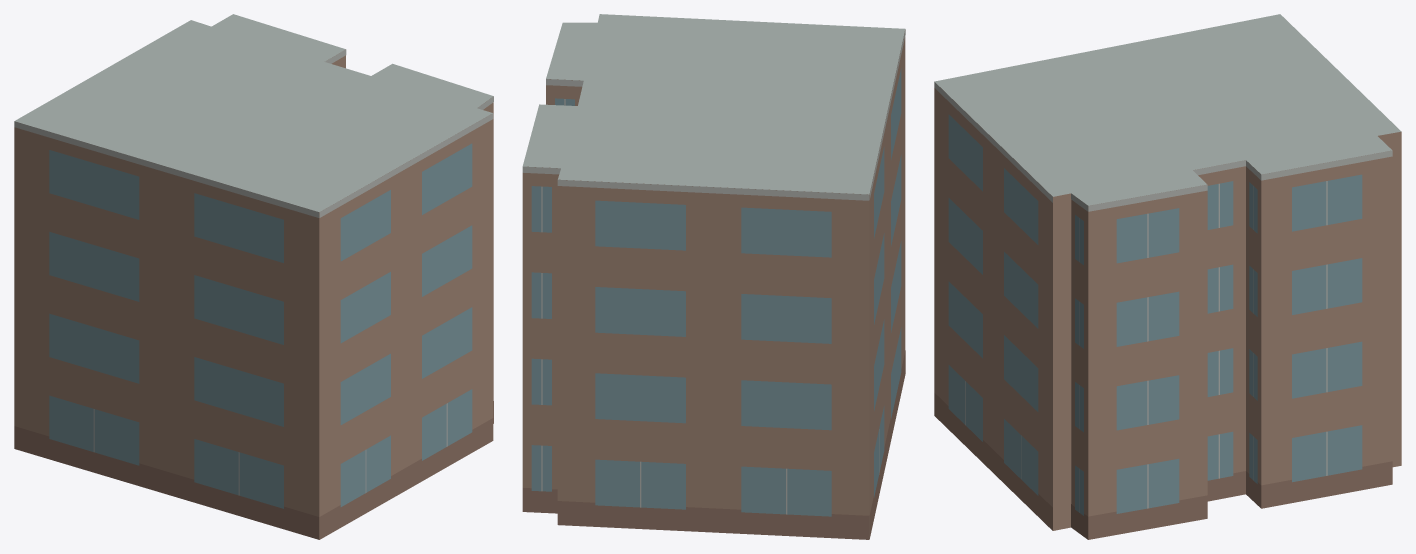
Rendered from survey-upis-32747342.glb.
3 renders of one model, left to right at view 1: azimuth 30°, elevation 25°; view 2: azimuth 150°, elevation 25°; view 3: azimuth 270°, elevation 25°, orthographic. The views are drawn at different scales.
Parts seen in each view (by area): view 1: survey-upis-32747342.tmp; view 2: survey-upis-32747342.tmp; view 3: survey-upis-32747342.tmp.
Part boxes in pixels (x1=…): survey-upis-32747342.tmp: x1=14, y1=14, x2=493, y2=539; survey-upis-32747342.tmp: x1=522, y1=14, x2=905, y2=539; survey-upis-32747342.tmp: x1=934, y1=14, x2=1401, y2=539.
Size of the model in its own units: 16.5 by 13.4 by 16.99.
